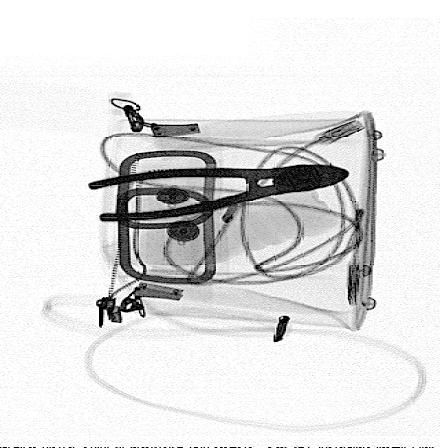Pliers: (82, 161, 355, 222)
